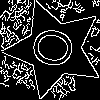O: (29, 24, 86, 74)
